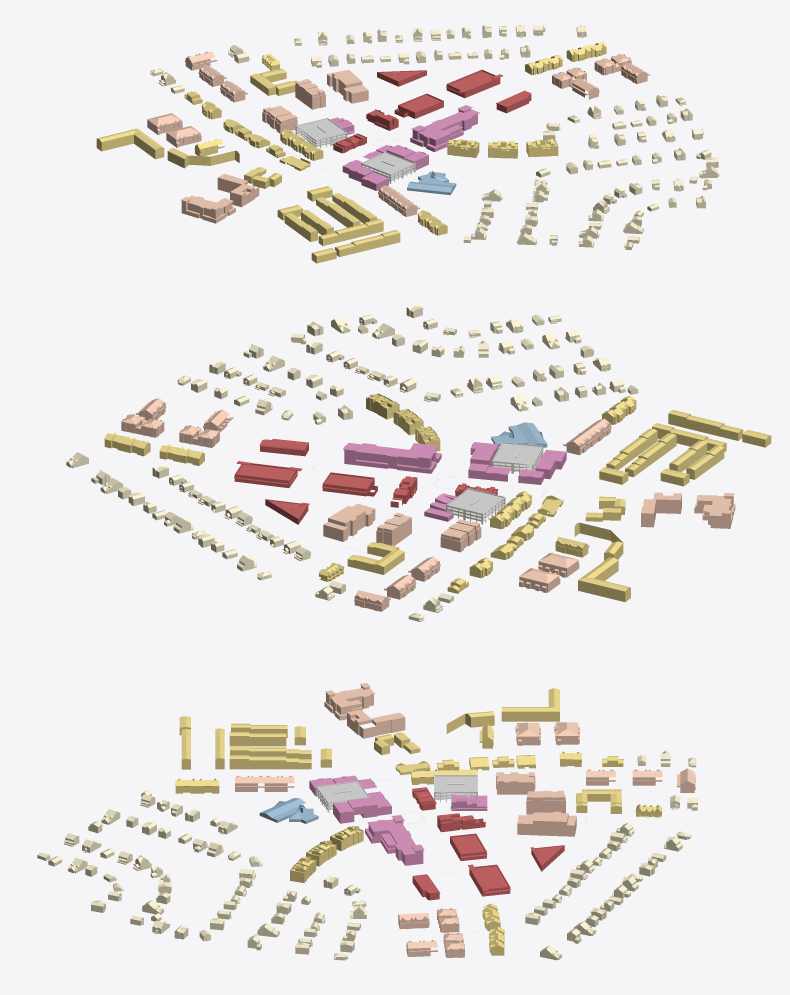
The model's file is Neighborhood2_CC.glb.
3 renders of one model, top to bottom at view 1: azimuth 30°, elevation 25°; view 2: azimuth 150°, elevation 25°; view 3: azimuth 270°, elevation 25°, orthographic. The views are drawn at different scales.
Visible parts, largest first — view 1: Multifamily_2_1, Group11, Multifamily_2_1_1, Multifamily_7_1, retail3_1_1, Multifamily_8_1, tomehomes_3_1, tomehomes_3_2, Group12, retail2_1_1, church_1_1, Multifamily_6_8_1 (+11 smaller); view 2: Multifamily_2_1, Group11, Multifamily_7_1, retail3_1_1, Multifamily_2_1_1, tomehomes_3_2, retail2_1_1, Multifamily_6_8_1, Multifamily_8_1, church_1_1, tomehomes2, Multifamily_6_3_1 (+11 smaller); view 3: Multifamily_2_1, Multifamily_7_1, Multifamily_2_1_1, Multifamily_8_1, tomehomes1, Group11, Group83, retail3_1_1, church_1_1, Multifamily_6_3_1, Multifamily_6_8_1, tomehomes_1_1 (+5 smaller).
Boxes of the visible parts, x1,y1,x2,y2 form: Multifamily_2_1: [410, 105, 479, 151]; Group11: [96, 128, 164, 159]; Multifamily_2_1_1: [181, 195, 235, 223]; Multifamily_7_1: [327, 70, 368, 103]; retail3_1_1: [446, 69, 502, 98]; Multifamily_8_1: [217, 173, 259, 207]; tomehomes_3_1: [318, 219, 383, 245]; tomehomes_3_2: [335, 230, 400, 256]; Group12: [167, 148, 239, 168]; retail2_1_1: [394, 93, 443, 118]; church_1_1: [407, 171, 456, 195]; Multifamily_6_8_1: [262, 105, 297, 133]; Multifamily_2_1: [343, 443, 441, 473]; Group11: [578, 557, 630, 602]; Multifamily_7_1: [323, 503, 375, 541]; retail3_1_1: [234, 461, 301, 487]; Multifamily_2_1_1: [694, 493, 735, 528]; tomehomes_3_2: [668, 410, 743, 440]; retail2_1_1: [322, 472, 377, 496]; Multifamily_6_8_1: [440, 519, 481, 552]; Multifamily_8_1: [641, 492, 681, 527]; church_1_1: [491, 422, 547, 447]; tomehomes2: [625, 433, 676, 477]; Multifamily_6_3_1: [376, 512, 411, 545]; Multifamily_2_1: [365, 815, 424, 865]; Multifamily_7_1: [517, 811, 576, 836]; Multifamily_2_1_1: [324, 683, 375, 720]; Multifamily_8_1: [347, 709, 405, 738]; tomehomes1: [229, 755, 311, 769]; Group11: [501, 688, 559, 721]; Group83: [333, 797, 391, 823]; retail3_1_1: [468, 864, 510, 896]; church_1_1: [259, 798, 318, 823]; Multifamily_6_3_1: [526, 790, 565, 814]; Multifamily_6_8_1: [496, 772, 535, 794]; tomehomes_1_1: [229, 732, 286, 746].
Bounding box in the file's own units: 2397 × 67.8 × 2424.
